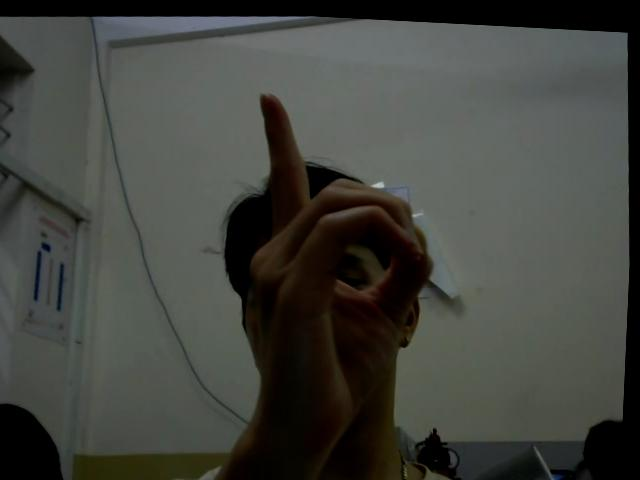D: (231, 76, 452, 432)
